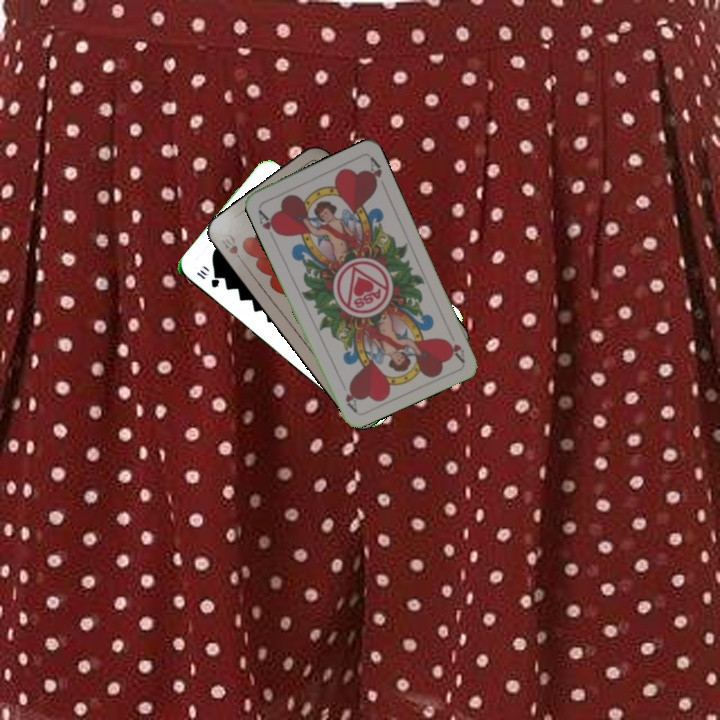G10: (192, 264, 222, 290)
H10: (215, 229, 246, 266)
HA: (254, 205, 282, 238), (441, 335, 467, 364)
